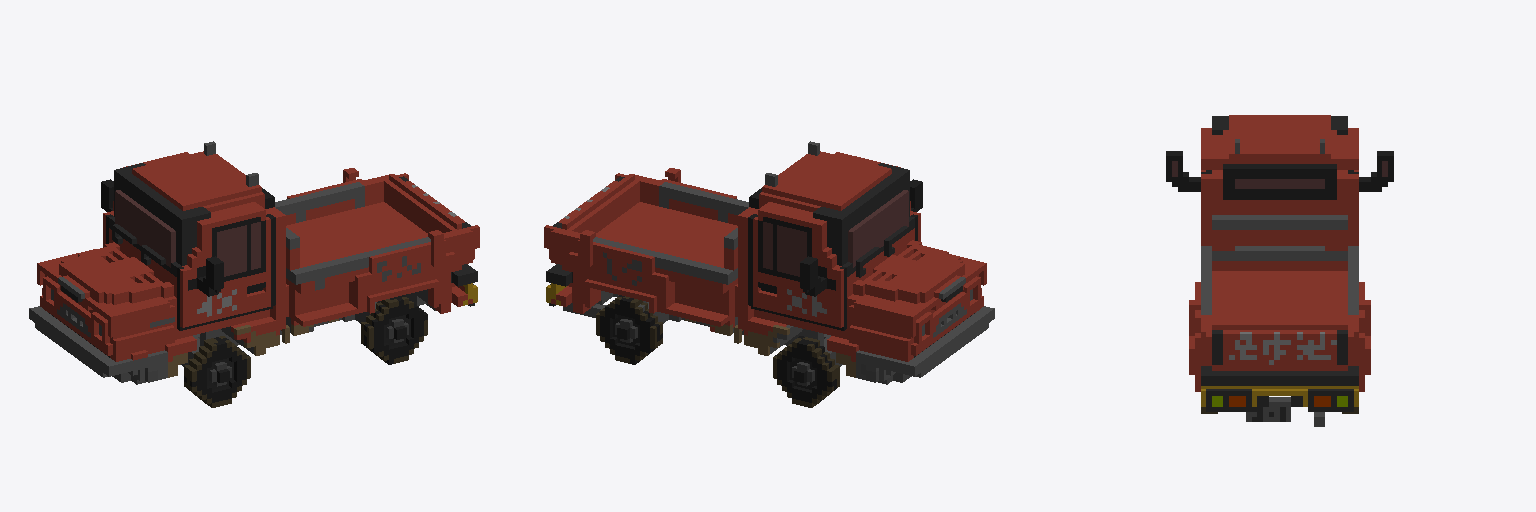
3 renders of one model, left to right at view 1: azimuth 30°, elevation 25°; view 2: azimuth 150°, elevation 25°; view 3: azimuth 270°, elevation 25°, orthographic.
Parts seen in each view (by area): view 1: object 1; view 2: object 1; view 3: object 1.
Part boxes in pixels (x1,y1,x2,y2): object 1: (29,141,479,407); object 1: (544,141,994,407); object 1: (1166,115,1393,426).
Bounding box in the file's own units: 7.6 × 4 × 4.
1 materials, 1 textured.